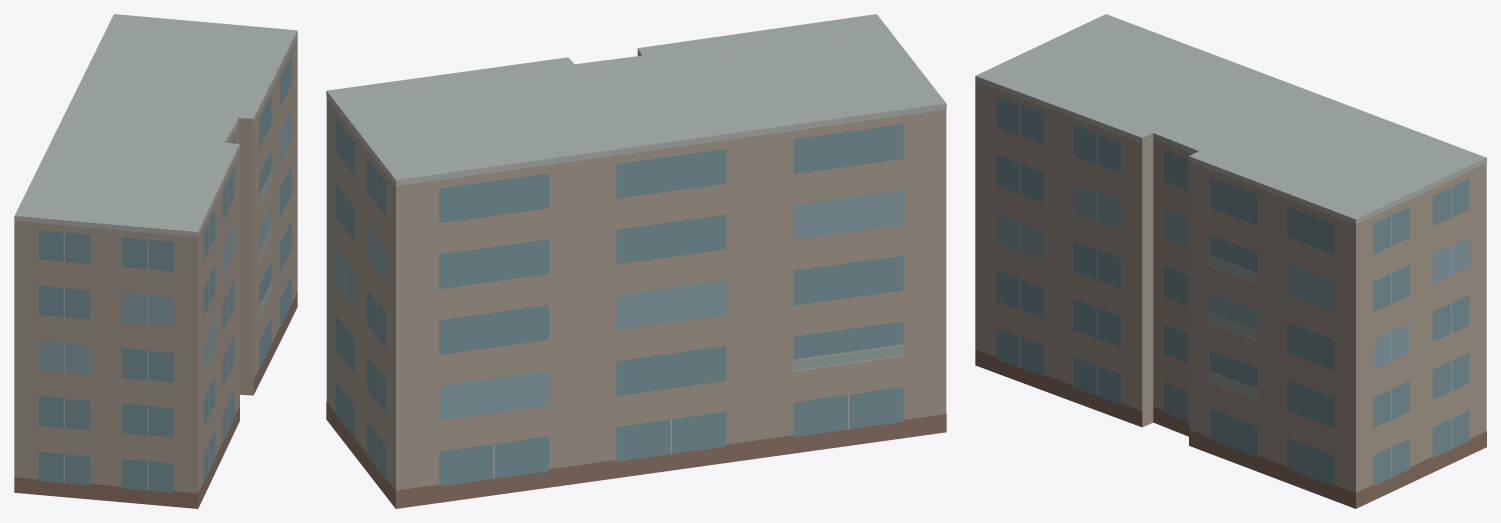
Rendered from survey-upis-32526218.glb.
3 views of the same model, side by side, from view 1: azimuth 30°, elevation 25°; view 2: azimuth 150°, elevation 25°; view 3: azimuth 270°, elevation 25° (orthographic). The views are drawn at different scales.
Visible parts, largest first — view 1: survey-upis-32526218.tmp; view 2: survey-upis-32526218.tmp; view 3: survey-upis-32526218.tmp.
Boxes of the visible parts, x1,y1,x2,y2 form: survey-upis-32526218.tmp: [14, 14, 297, 508]; survey-upis-32526218.tmp: [326, 14, 946, 508]; survey-upis-32526218.tmp: [975, 14, 1486, 508].
Size of the model in its own units: 19.95 by 13.1 by 20.99.
